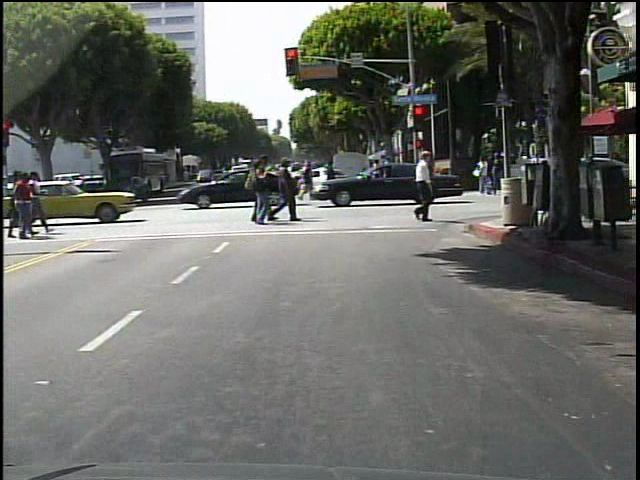person: (401, 142, 444, 232)
